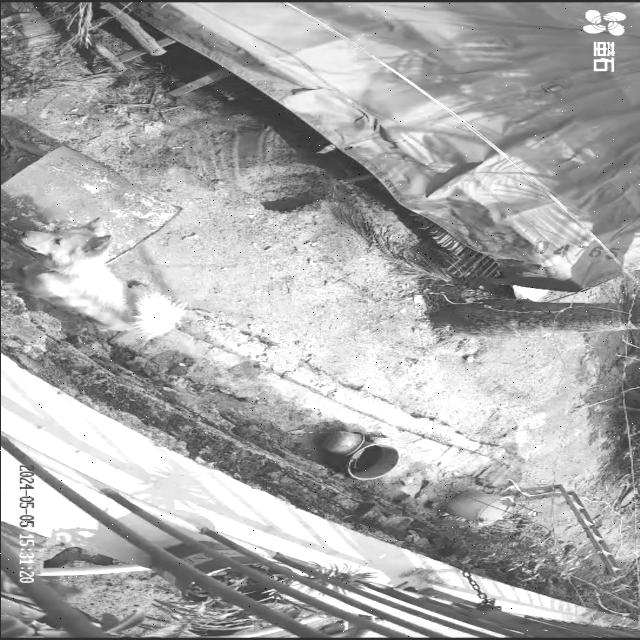dog: (3, 218, 189, 340)
